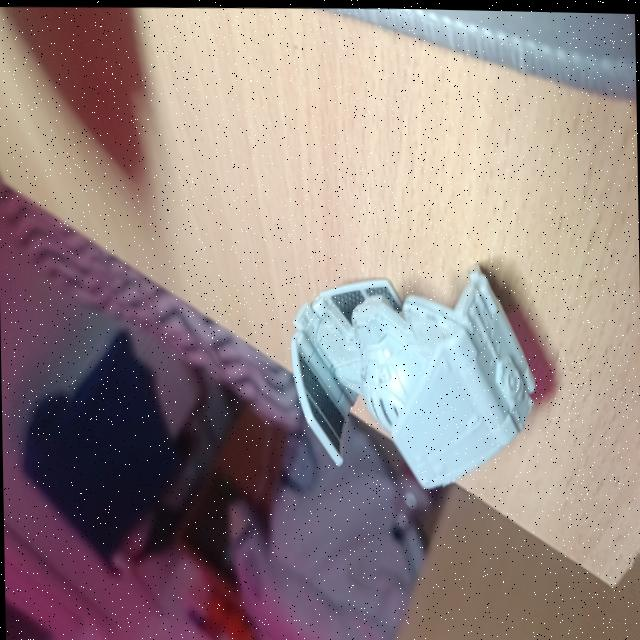tie fighter: (291, 262, 535, 484), (305, 311, 333, 347), (321, 349, 332, 358)
